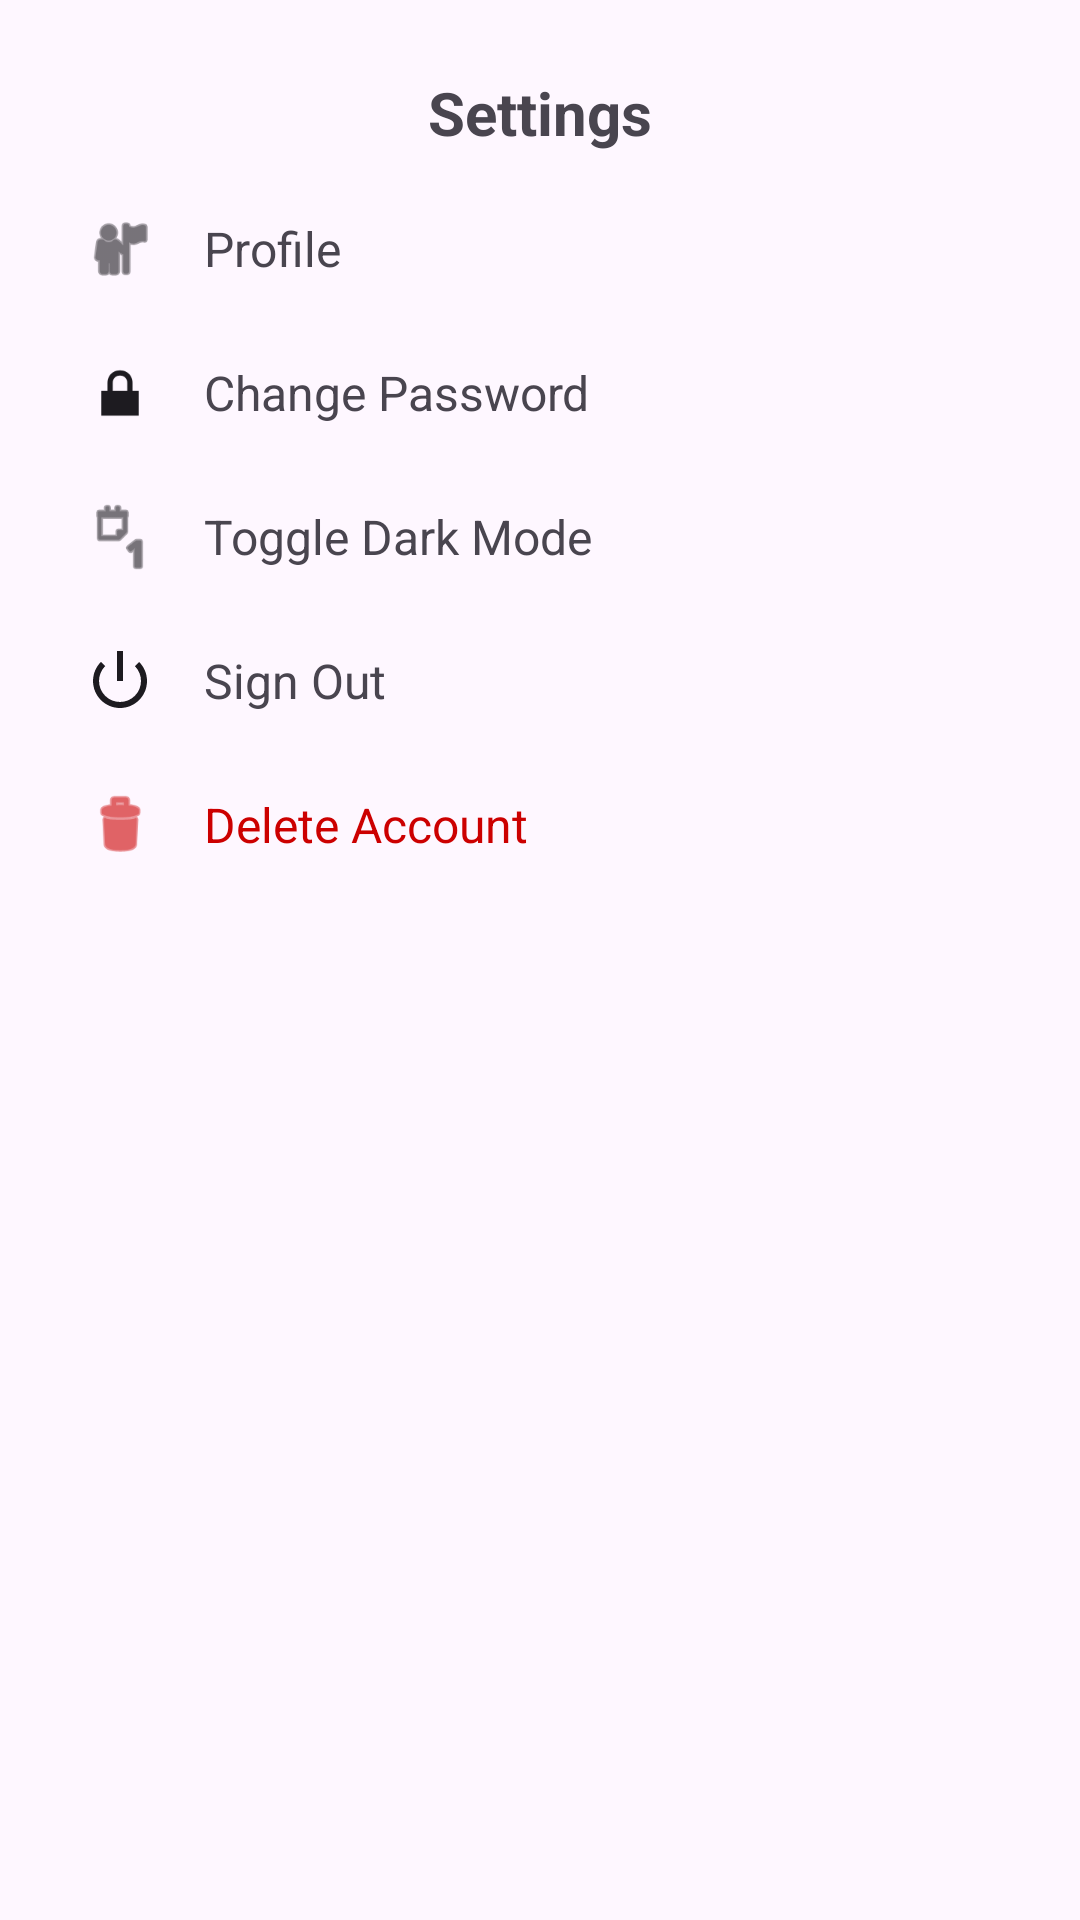

Named icons in this screenshot (1080 x 1920) and their bounding boxes, [x1=x1, y1=y1, x2=x2, y2=y2]:
day: [x1=96, y1=505, x2=143, y2=569]
lock: [x1=101, y1=370, x2=139, y2=416]
lock power off: [x1=93, y1=651, x2=147, y2=708]
myplaces: [x1=94, y1=222, x2=148, y2=276]
